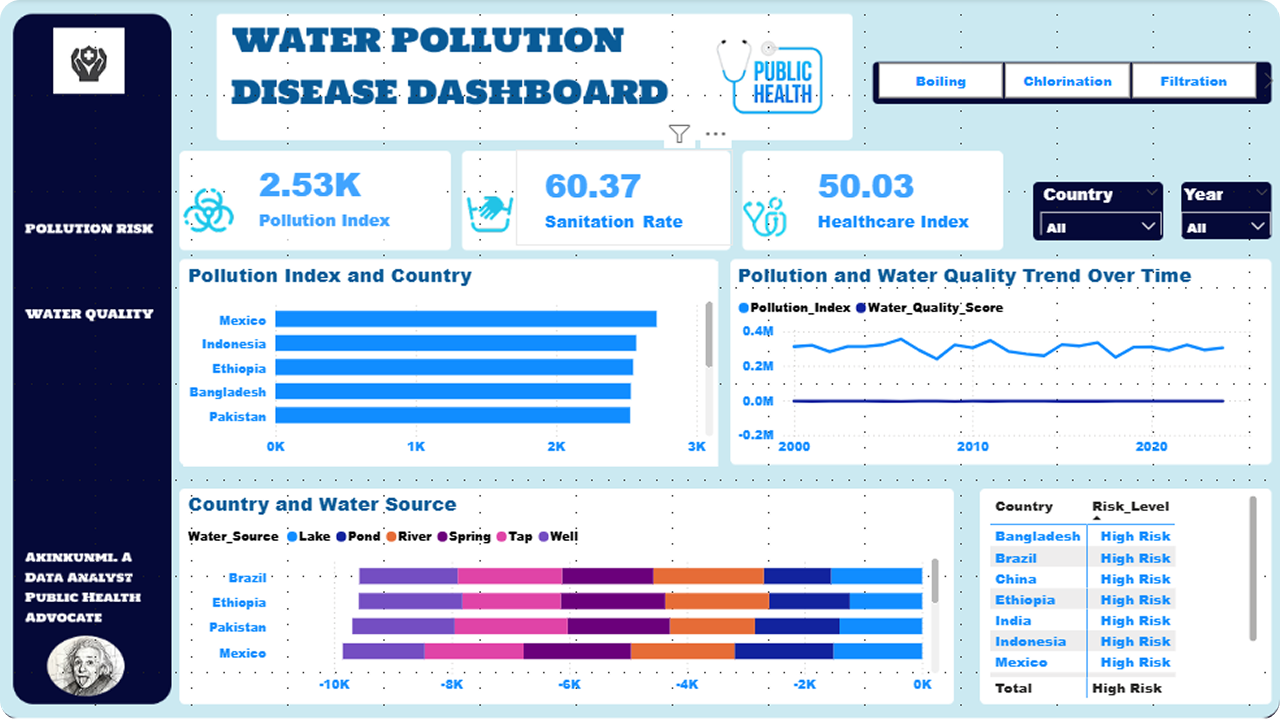

The dashboard page shown, as its layout file describes it:
{"tool":"powerbi","page":{"name":"Pollution, Water Quality & Risk","canvas":[1280,720],"ordinal":1},"visuals":[{"type":"cardVisual","fields":{"Data":["Avg(Sheet1.Pollution_Index)"]},"box":[231,147.5,219.8,98.8],"z":0},{"type":"cardVisual","fields":{"Data":["Avg(Sheet1.Sanitation_Rate)"]},"box":[516.2,150.3,217,96],"z":1000},{"type":"cardVisual","fields":{"Data":["Avg(Sheet1.Healthcare_Index)"]},"box":[788.9,150.3,218.4,96],"z":2000},{"type":"slicer","fields":{"Values":["Sheet1.Country"]},"box":[1029.6,178.1,140.5,58.4],"z":3000},{"type":"slicer","fields":{"Values":["Sheet1.Year"]},"box":[1170.1,178.1,109.9,58.4],"z":4000},{"type":"slicer","fields":{"Values":["Sheet1.Water_Treatment_Method"]},"box":[852.9,57,427.1,48.7],"z":5000},{"type":"barChart","title":"Pollution Index and Country","fields":{"Y":["Avg(Sheet1.Pollution_Index)"],"Category":["Sheet1.Country"]},"box":[183.7,261.6,534.3,204.5],"z":6000},{"type":"barChart","title":"Country and Water Source","fields":{"Category":["Sheet1.Country"],"Series":["Sheet1.Water_Source"],"Y":["Sum(Sheet1.Water_Quality_Score)"]},"box":[183.7,489.7,759.7,212.9],"z":7000},{"type":"lineChart","title":"Pollution and Water Quality Trend Over Time","fields":{"Y":["Sum(Sheet1.Pollution_Index)","Sum(Sheet1.Water_Quality_Score)"],"Category":["Sheet1.Year"]},"box":[733.2,261.6,528.7,204.5],"z":8000},{"type":"pivotTable","fields":{"Rows":["Sheet1.Country"],"Values":["Min(Sheet1.Risk_Level)"]},"box":[985,489.7,276.9,212.9],"z":9000}]}

Visuals, with their boxes in screenshot pixels (x1, y1, x2, y2), scaled from the page's 1280x720 canvas onto the 1280x720 screenshot:
cardVisual - Avg(Sheet1.Pollution_Index): 231 148 451 246
cardVisual - Avg(Sheet1.Sanitation_Rate): 516 150 733 246
cardVisual - Avg(Sheet1.Healthcare_Index): 789 150 1007 246
slicer - Sheet1.Country: 1030 178 1170 236
slicer - Sheet1.Year: 1170 178 1279 236
slicer - Sheet1.Water_Treatment_Method: 853 57 1279 106
"Pollution Index and Country" barChart: 184 262 718 466
"Country and Water Source" barChart: 184 490 943 703
"Pollution and Water Quality Trend Over Time" lineChart: 733 262 1262 466
pivotTable - Sheet1.Country x Min(Sheet1.Risk_Level): 985 490 1262 703
